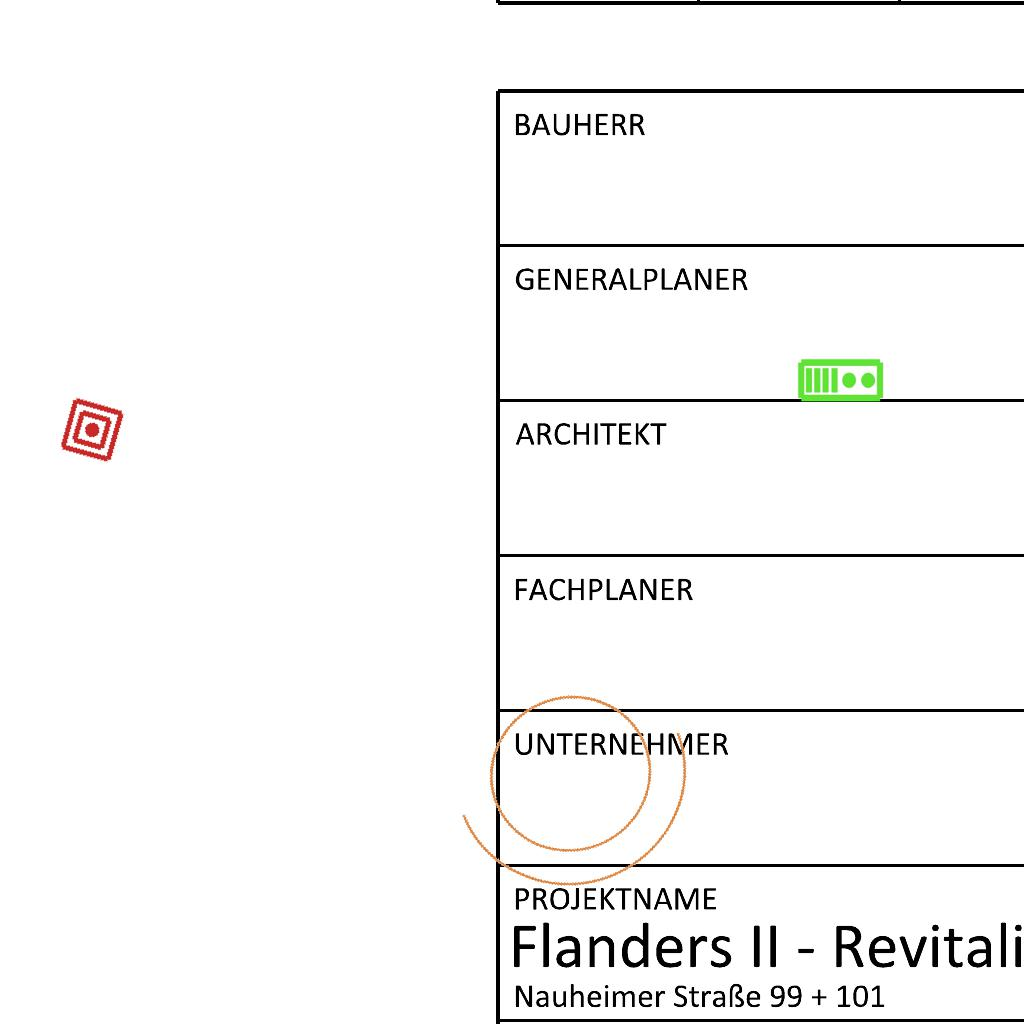Gegensprechanlage_mit_Video: (797, 356, 885, 403)
NAM-Nichtautomatischer_Melder: (57, 395, 127, 465)
Scheinwerfer_fuer_Alarmbeleuchtung: (416, 628, 744, 933)
